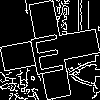E: (25, 25, 67, 75)
